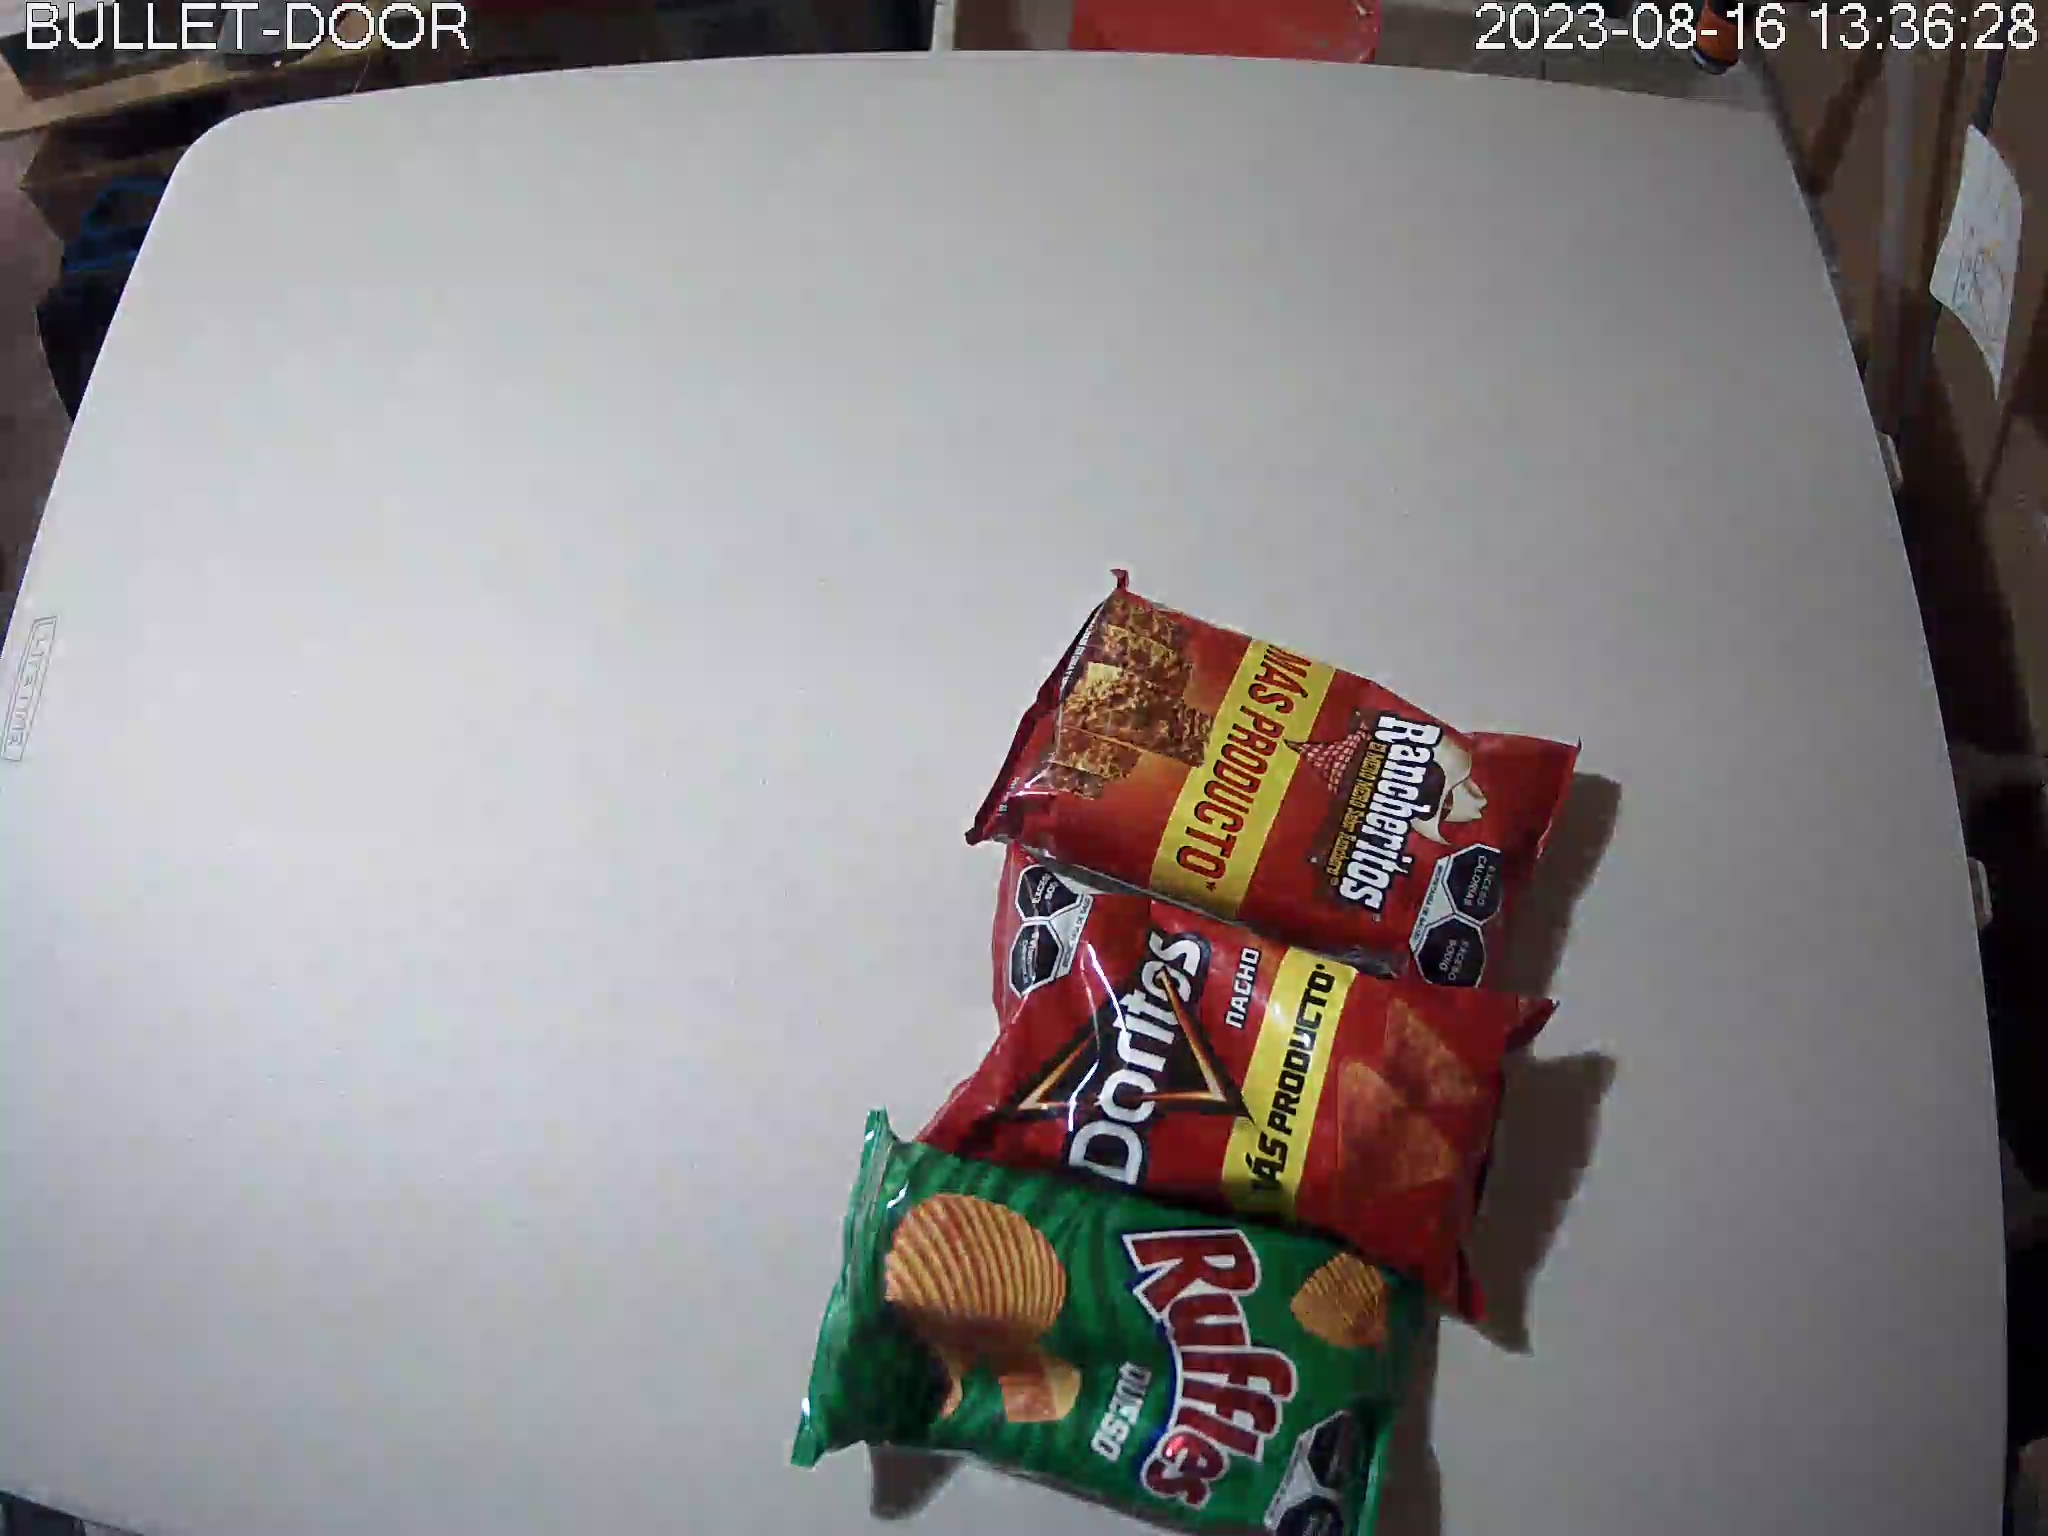DoritosN_61_F: (910, 836, 1563, 1325)
Rancheritos_58_F: (964, 570, 1587, 1016)
RufflesQ_48_F: (792, 1108, 1432, 1536)
